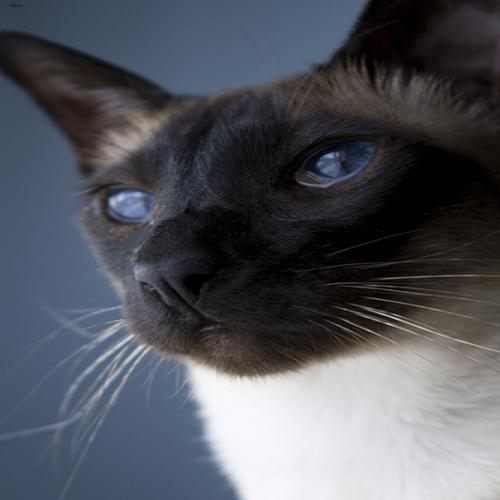siamese: (1, 1, 500, 397)
